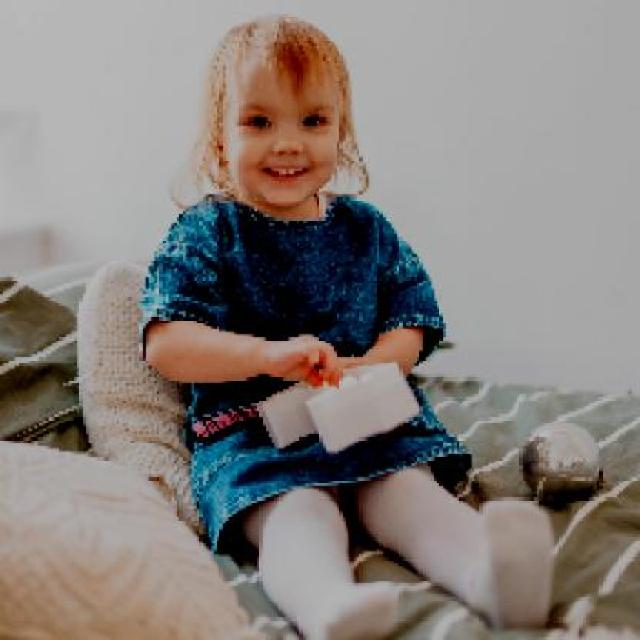child: (137, 14, 557, 637)
